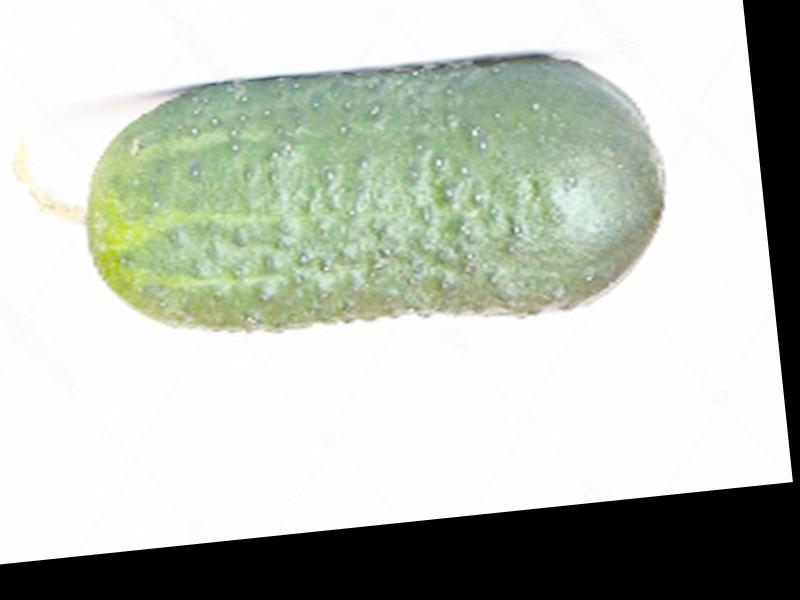Cucumber: (3, 42, 671, 364)
